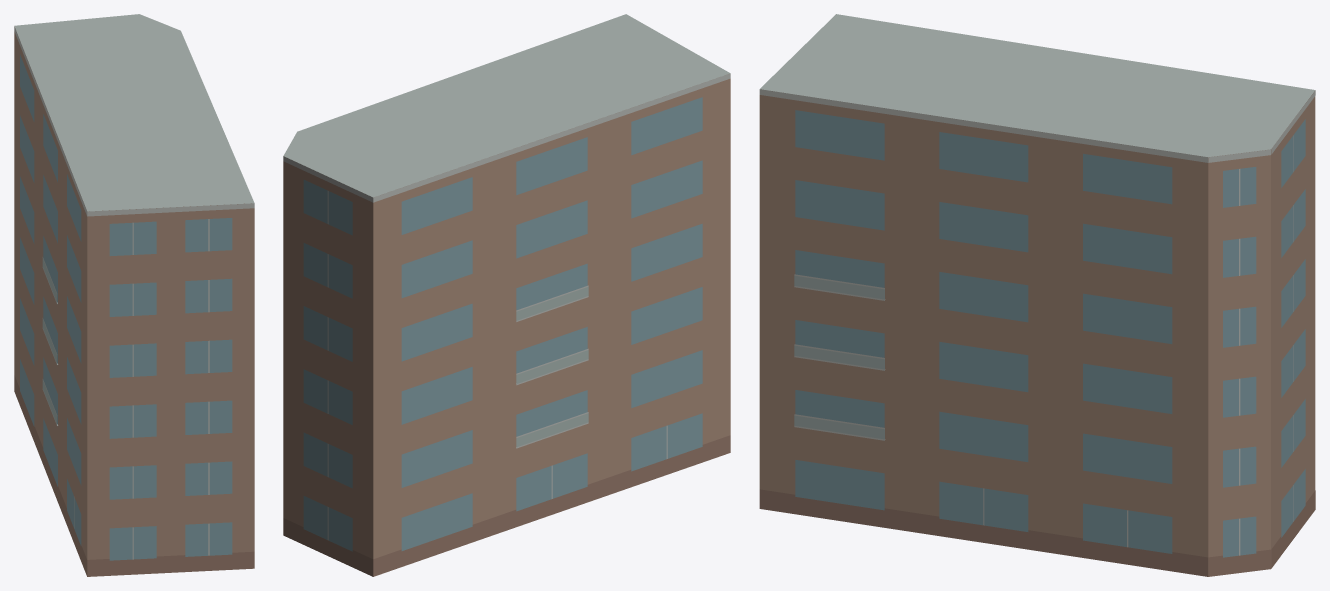
File: survey-upis-32528426.glb
3 renders of one model, left to right at view 1: azimuth 30°, elevation 25°; view 2: azimuth 150°, elevation 25°; view 3: azimuth 270°, elevation 25°, orthographic. The views are drawn at different scales.
Parts seen in each view (by area): view 1: survey-upis-32528426.tmp; view 2: survey-upis-32528426.tmp; view 3: survey-upis-32528426.tmp.
Boxes of the visible parts, x1=… form: survey-upis-32528426.tmp: x1=14, y1=14, x2=254, y2=576; survey-upis-32528426.tmp: x1=283, y1=14, x2=730, y2=576; survey-upis-32528426.tmp: x1=759, y1=14, x2=1315, y2=576.
Bounding box in the file's own units: 13.11 × 17.9 × 21.5.
